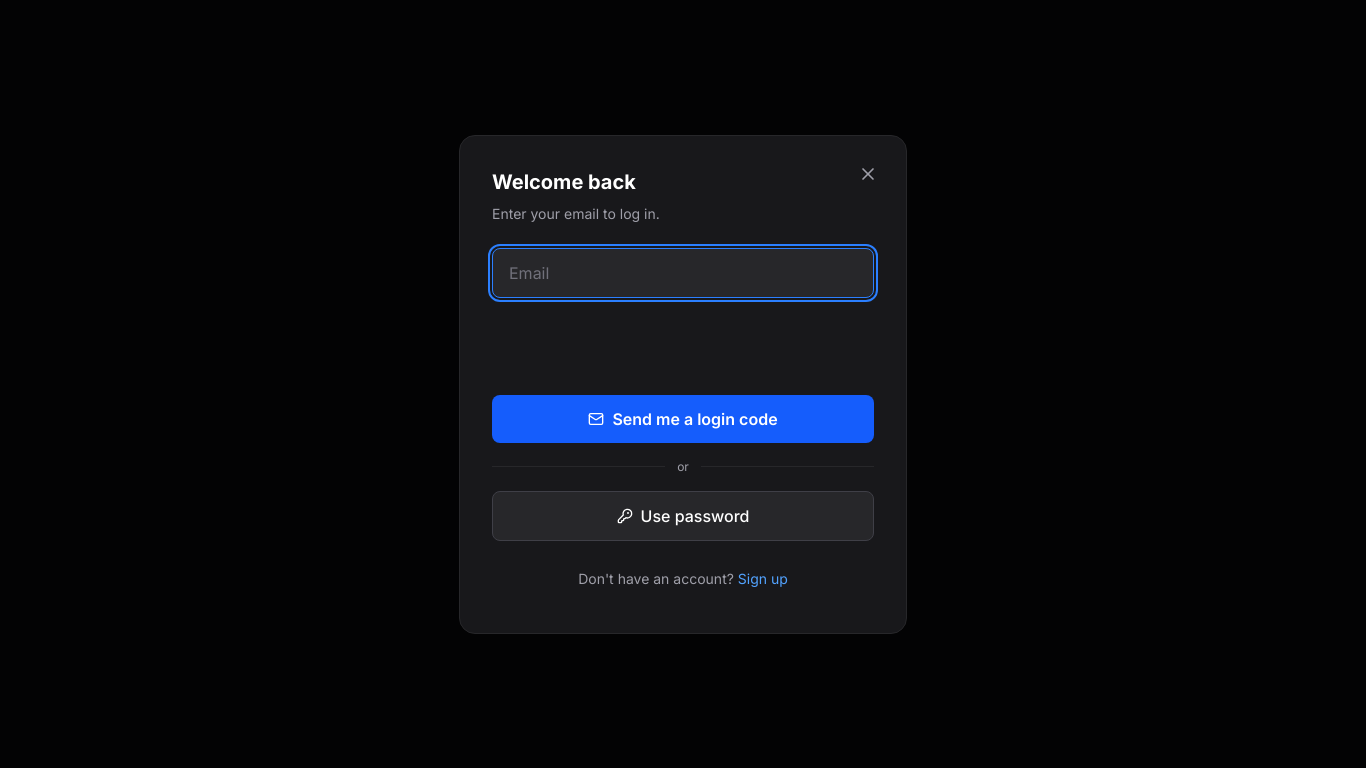
AuthModal › can switch to signup mode
The width and height of the screenshot is (1366, 768).
Step 1. Click the button "Sign up" → x=763, y=578, box [738,556,788,600]
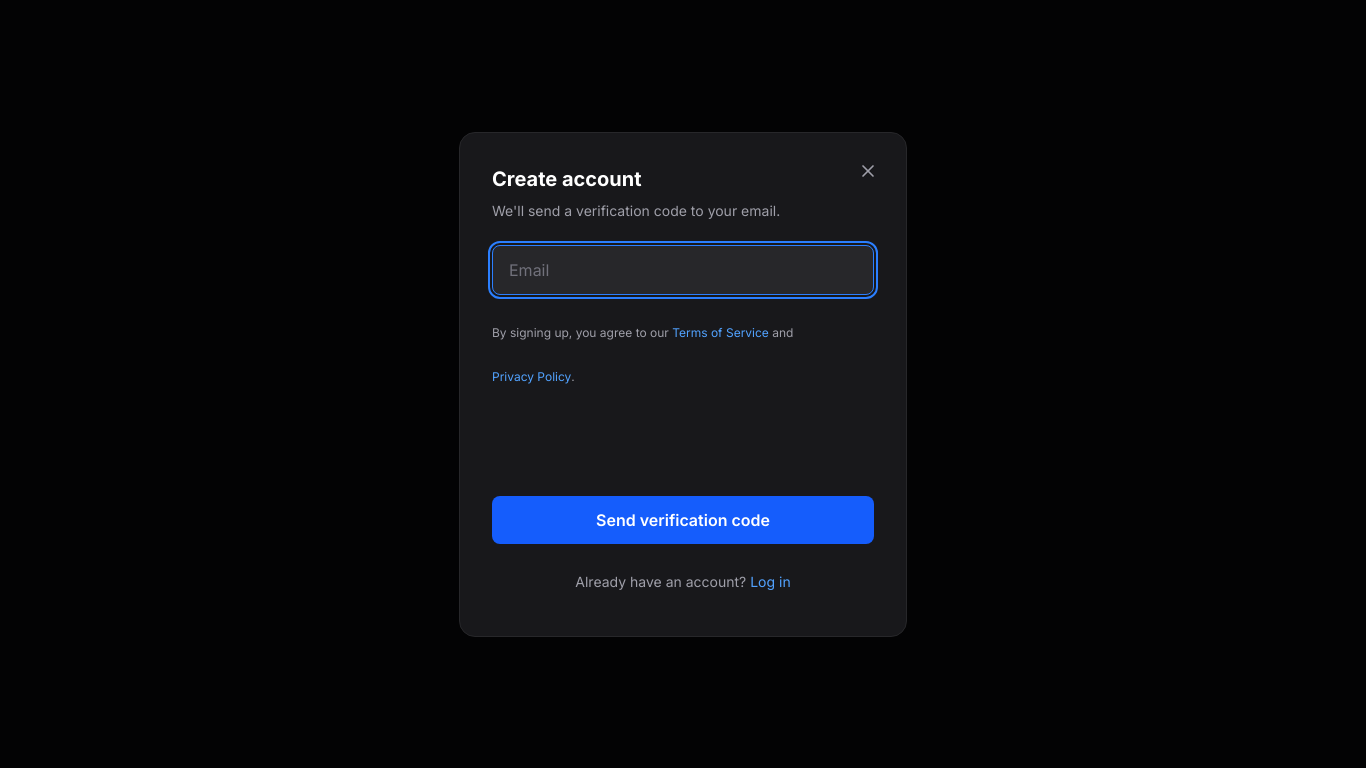
Check: the heading "Create account" is shown, box [492,166,642,190]
